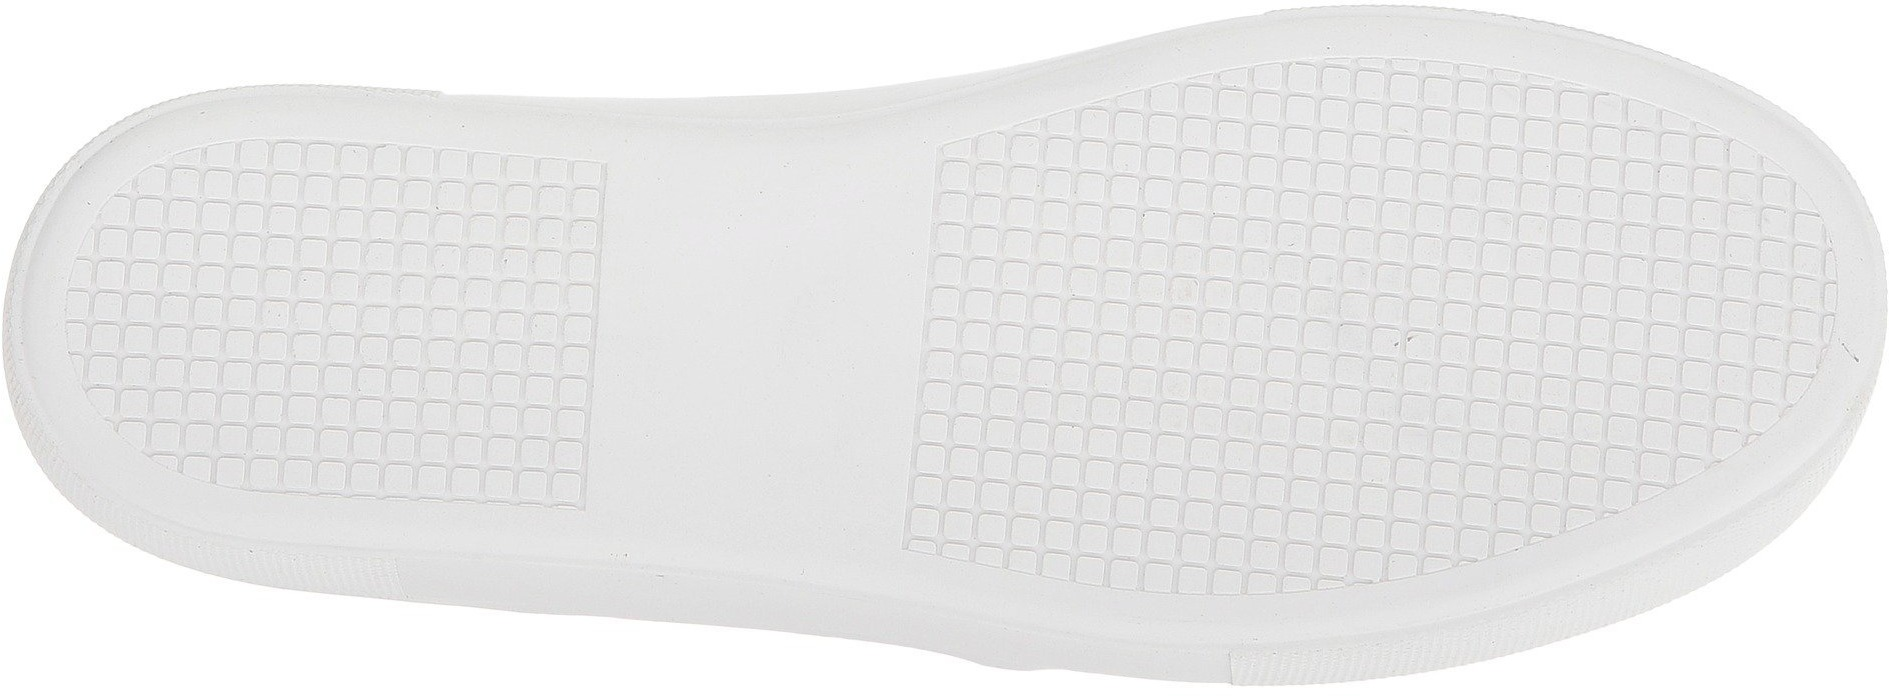other: (608, 170, 918, 447)
quad: (926, 132, 1206, 393), (1438, 79, 1685, 362), (342, 151, 592, 412), (99, 205, 345, 433), (1214, 303, 1444, 527), (1210, 72, 1435, 296), (928, 399, 1157, 586), (1449, 368, 1622, 524), (1688, 211, 1838, 366), (1626, 371, 1735, 473)
